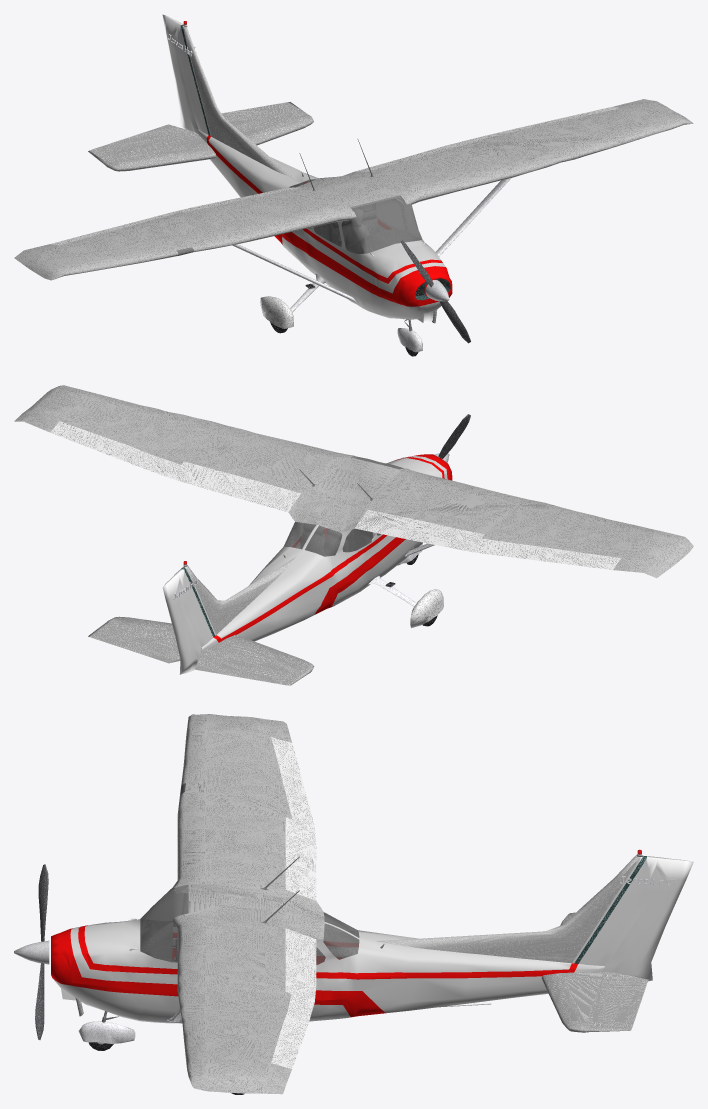
File: Cessna.dae
3 renders of one model, top to bottom at view 1: azimuth 30°, elevation 25°; view 2: azimuth 150°, elevation 25°; view 3: azimuth 270°, elevation 25°, orthographic. The views are drawn at different scales.
Parts seen in each view (by area): view 1: group_4 (×7), group_1 (×2), group_3, group_8, group_2, ske2A3 (×2), group_17, Group_15, _3D_Man_seated_crossedleg, group_9; view 2: group_4 (×9), group_1 (×2), group_3, group_2, Group_15, group_5, group_6, group_10; view 3: group_4 (×9), group_1 (×2), group_2, group_8, group_0 (×3), group_17, ske2A3, group_6.
Part boxes in pixels (x1=…): group_4 (×7): x1=14, y1=99, x2=693, y2=319; group_1 (×2): x1=162, y1=14, x2=295, y2=178; group_3: x1=88, y1=124, x2=216, y2=171; group_8: x1=341, y1=195, x2=422, y2=253; group_2: x1=221, y1=102, x2=313, y2=145; ske2A3 (×2): x1=232, y1=178, x2=511, y2=302; group_17: x1=347, y1=229, x2=420, y2=253; Group_15: x1=260, y1=296, x2=293, y2=328; _3D_Man_seated_crossedleg: x1=337, y1=208, x2=369, y2=248; group_9: x1=376, y1=200, x2=403, y2=229; group_4 (×9): x1=14, y1=385, x2=693, y2=652; group_1 (×2): x1=162, y1=557, x2=295, y2=674; group_3: x1=195, y1=634, x2=314, y2=685; group_2: x1=88, y1=616, x2=180, y2=663; Group_15: x1=410, y1=589, x2=443, y2=628; group_5: x1=305, y1=525, x2=342, y2=556; group_6: x1=283, y1=522, x2=316, y2=549; group_10: x1=342, y1=528, x2=372, y2=552; group_4 (×9): x1=51, y1=714, x2=604, y2=1094; group_1 (×2): x1=376, y1=855, x2=693, y2=981; group_2: x1=541, y1=972, x2=648, y2=1032; group_8: x1=140, y1=884, x2=188, y2=962; group_0 (×3): x1=14, y1=864, x2=49, y2=1039; group_17: x1=140, y1=919, x2=176, y2=962; ske2A3: x1=78, y1=1021, x2=135, y2=1043; group_6: x1=323, y1=923, x2=359, y2=959.
Size of the model in its own units: 434 by 334 by 109.
